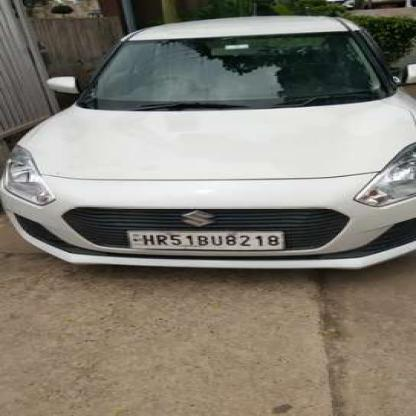license_plate: (127, 228, 281, 249)
